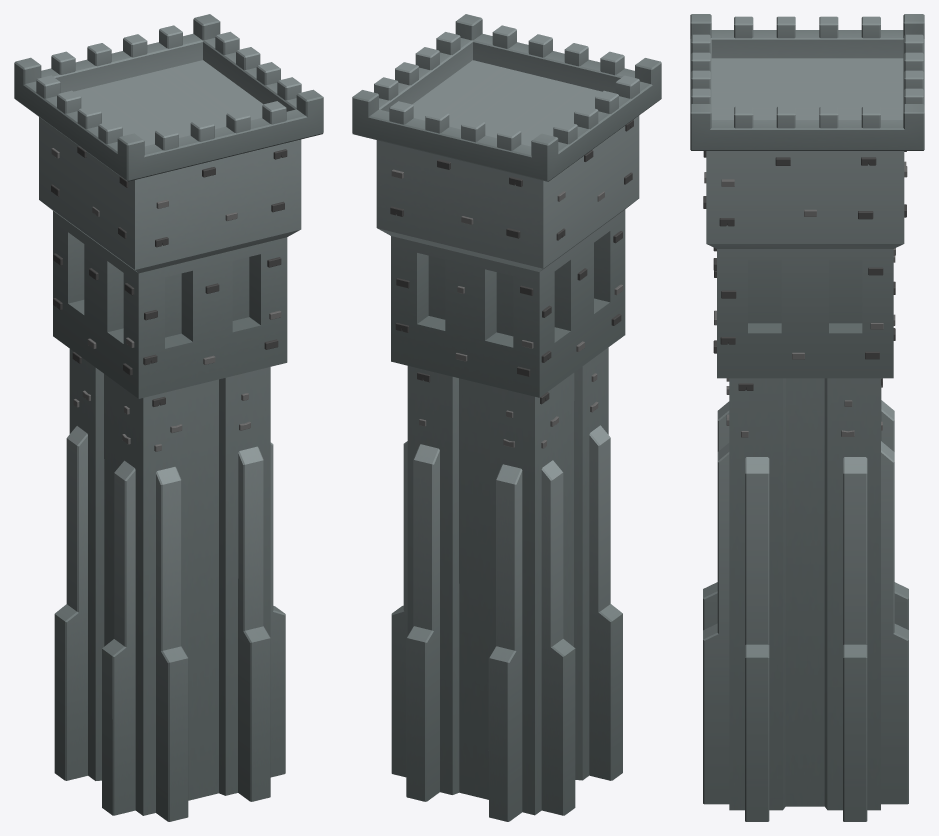
Rendered from ZLP_Build_C_1.FBX.
The picture shows the model from 3 angles, left to right: view 1: azimuth 30°, elevation 25°; view 2: azimuth 150°, elevation 25°; view 3: azimuth 270°, elevation 25°; orthographic projection. The views are drawn at different scales.
Visible parts, largest first — view 1: ZLP_Build_C_1; view 2: ZLP_Build_C_1; view 3: ZLP_Build_C_1.
Boxes of the visible parts, x1,y1,x2,y2 form: ZLP_Build_C_1: (14,14,323,821); ZLP_Build_C_1: (352,14,661,821); ZLP_Build_C_1: (690,14,924,821).
Size of the model in its own units: 1297 by 4367 by 1297.
